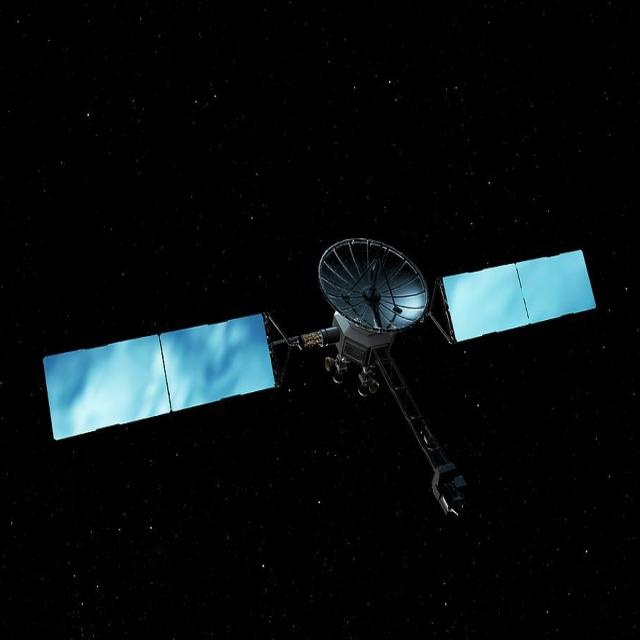medium_debris: (32, 181, 599, 531)
